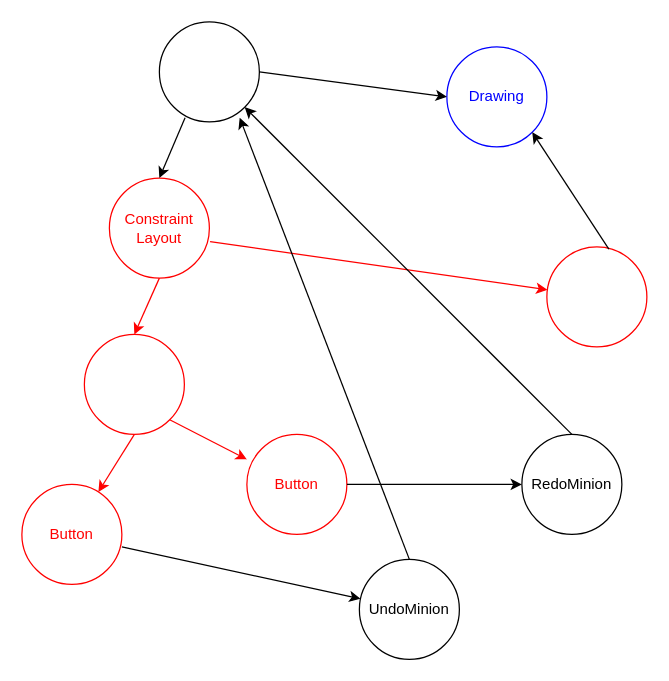
This 669x681 diagram has some shape labels left out. The box of each missing label's shape, as (x1, y1, x2, y2) in pixels:
DrawingView: (546, 246, 647, 347)
Linear Layout: (83, 333, 184, 434)
MainActivity: (158, 21, 259, 122)
